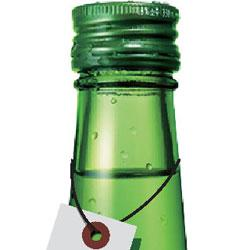soju: (55, 2, 191, 250)
